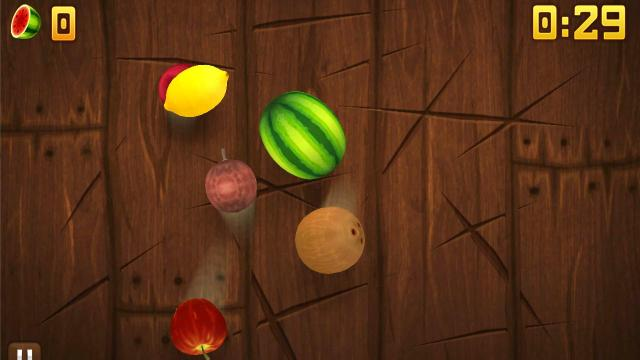fruit: (258, 92, 346, 178), (294, 206, 366, 274), (170, 298, 227, 358), (166, 64, 228, 118), (205, 156, 258, 214), (156, 61, 198, 103)
ignore: (9, 4, 41, 40)
